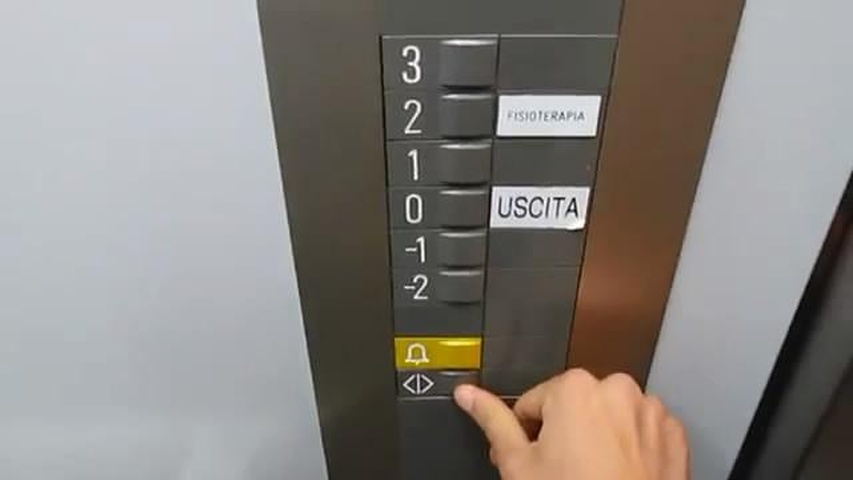-1: (385, 223, 492, 272)
-2: (388, 262, 491, 307)
0: (383, 181, 495, 234)
1: (381, 135, 497, 190)
2: (379, 84, 502, 144)
3: (376, 30, 502, 94)
alarm: (390, 332, 488, 375)
open: (393, 367, 485, 402)
